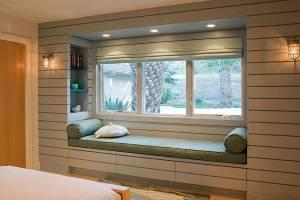window: (97, 56, 242, 119)
